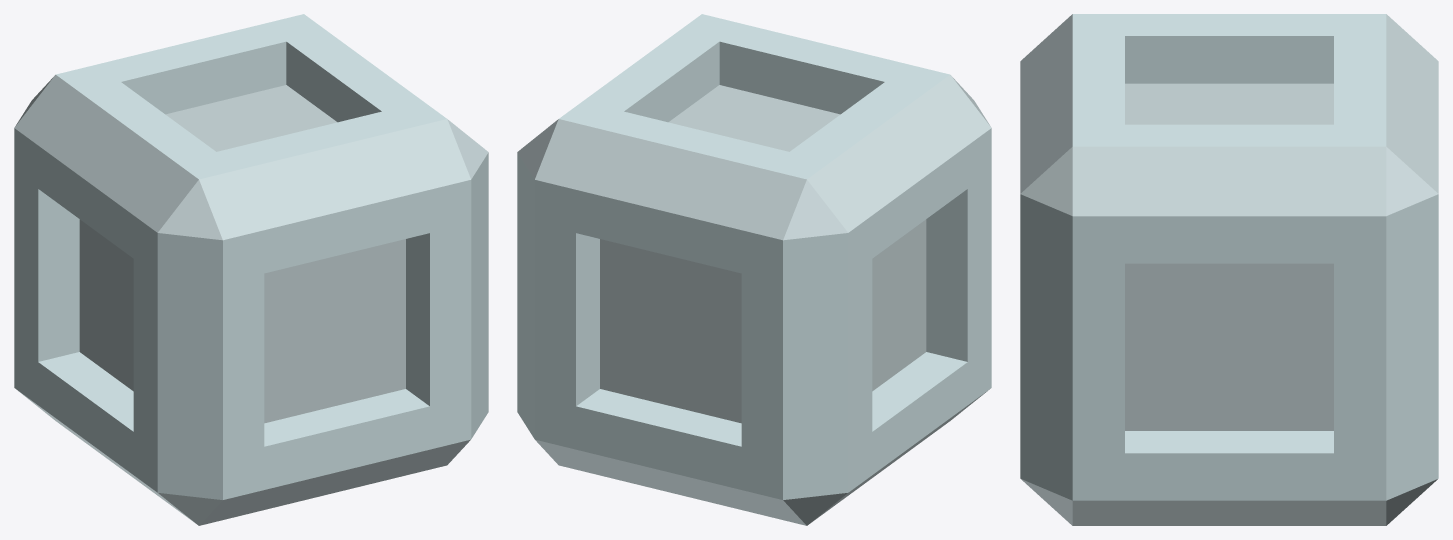
Rendered from statue_block.glb.
3 views of the same model, side by side, from view 1: azimuth 30°, elevation 25°; view 2: azimuth 150°, elevation 25°; view 3: azimuth 270°, elevation 25° (orthographic). The views are drawn at different scales.
Parts seen in each view (by area): view 1: statue_block; view 2: statue_block; view 3: statue_block.
Boxes of the visible parts, x1,y1,x2,y2 form: statue_block: (14,14,488,525); statue_block: (517,14,991,525); statue_block: (1020,14,1438,525).
Bounding box in the file's own units: 0.4 × 0.4 × 0.4.
